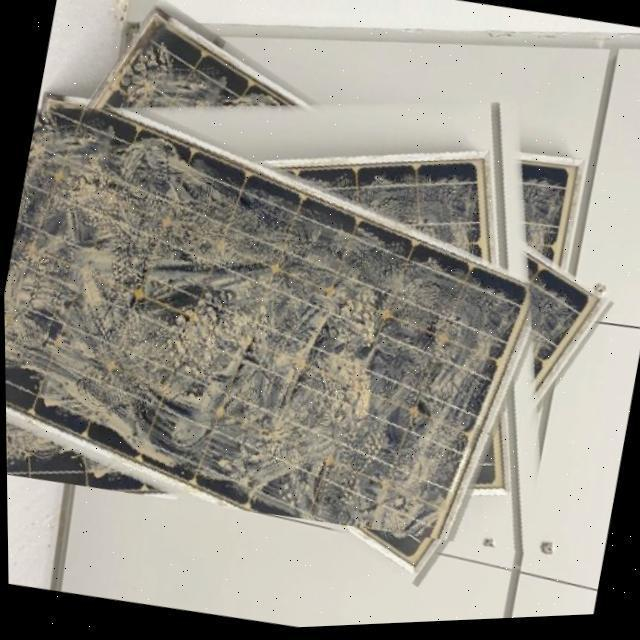Surface Contaminant: (3, 32, 623, 559)
